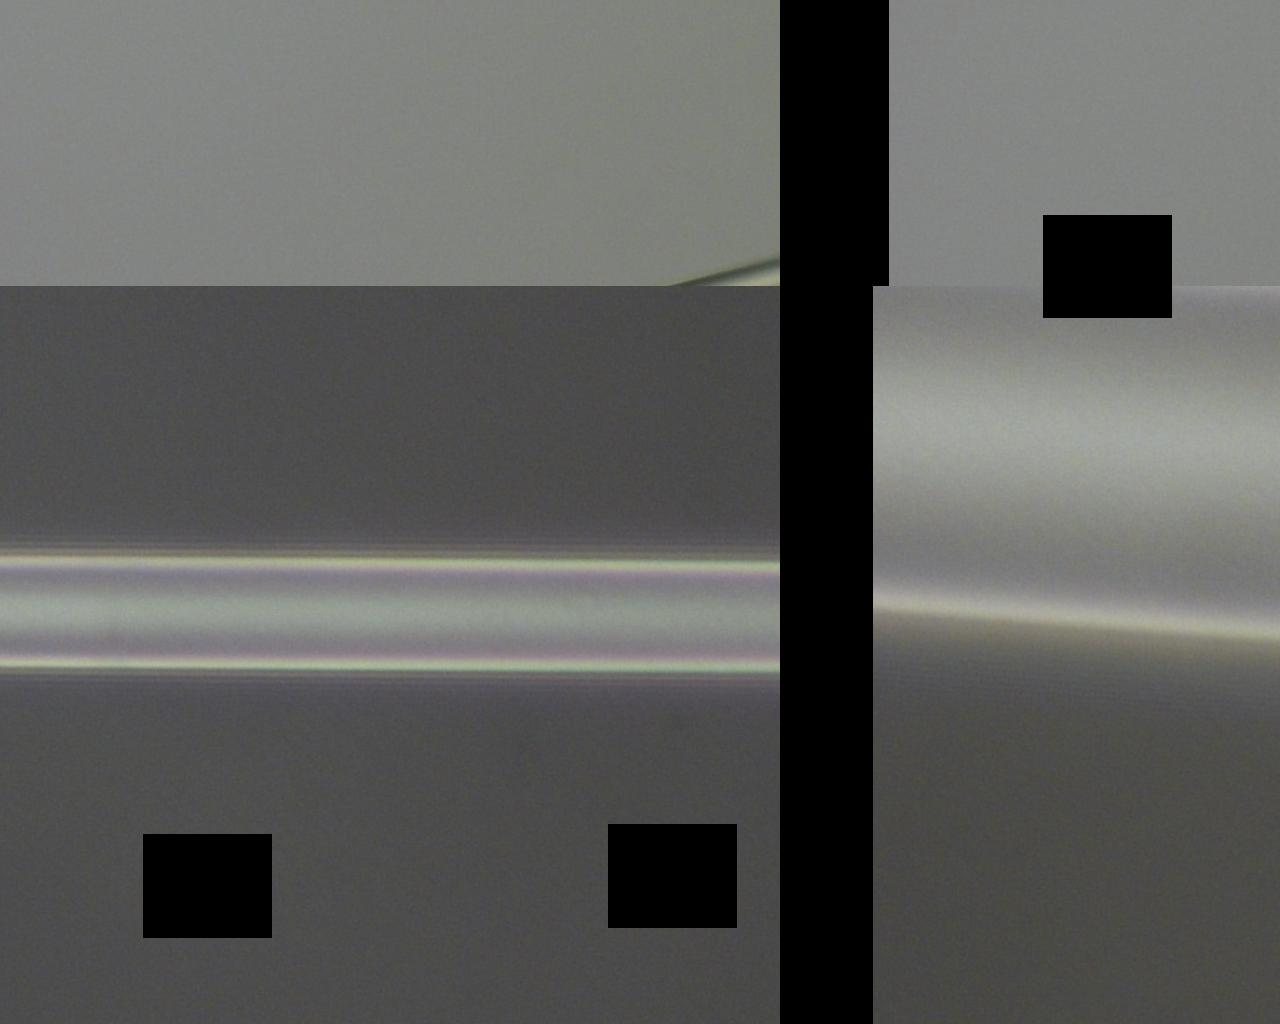fiber: (613, 0, 714, 1024)
